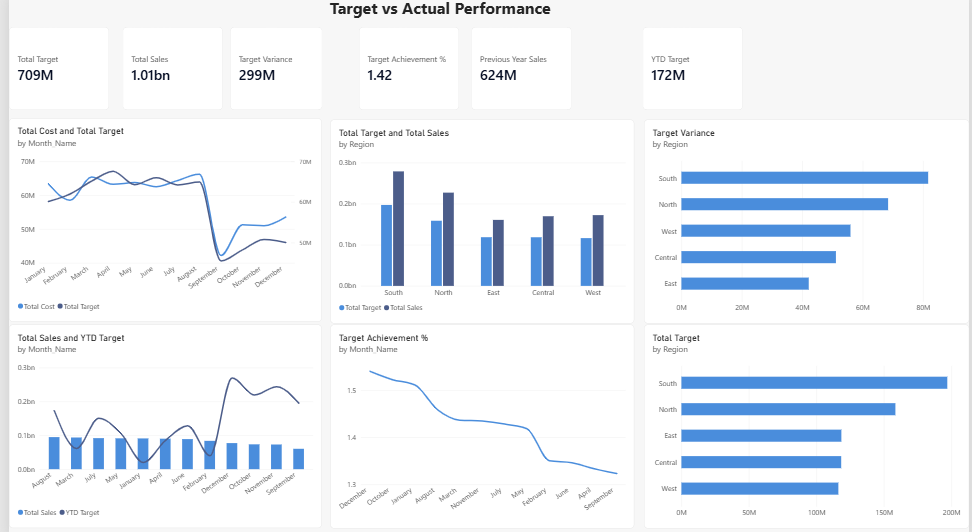

This screenshot's page, from the dashboard's own definition file:
{"tool":"powerbi","page":{"name":"Target vs Actual Performance.","canvas":[1920,1080],"ordinal":2},"visuals":[{"type":"cardVisual","fields":{"Data":["FactSales.Total Target"]},"box":[0,60,200,166],"z":0},{"type":"textbox","box":[458,0,810,74],"z":1000},{"type":"cardVisual","fields":{"Data":["FactSales.Total Sales"]},"box":[228,60,200,166],"z":2000},{"type":"cardVisual","fields":{"Data":["FactTarget.Target Achievement %"]},"box":[700,60,200,166],"z":3000},{"type":"cardVisual","fields":{"Data":["FactTarget.YTD Target"]},"box":[1268,60,200,166],"z":4000},{"type":"cardVisual","fields":{"Data":["FactTarget.Target Variance"]},"box":[442,60,184,166],"z":5000},{"type":"lineChart","fields":{"Category":["DimDate.Month_Name"],"Y":["FactSales.Total Cost"],"Y2":["FactSales.Total Target"]},"box":[0,243.4,625.7,407.5],"z":6000},{"type":"clusteredColumnChart","fields":{"Category":["DimRegion.Region"],"Y":["FactSales.Total Target","FactSales.Total Sales"]},"box":[642,244,608,408],"z":7000},{"type":"clusteredBarChart","fields":{"Category":["DimRegion.Region"],"Y":["FactTarget.Target Variance"]},"box":[1270,244,650,408],"z":8000},{"type":"lineStackedColumnComboChart","fields":{"Category":["DimDate.Month_Name"],"Y":["FactSales.Total Sales"],"Y2":["FactTarget.YTD Target"]},"box":[0,654,625.7,407.5],"z":9000},{"type":"lineChart","fields":{"Category":["DimDate.Month_Name"],"Y":["FactTarget.Target Achievement %"]},"box":[642,654,608,408],"z":10000},{"type":"clusteredBarChart","fields":{"Category":["DimRegion.Region"],"Y":["FactSales.Total Target"]},"box":[1270,654,650,408],"z":11000},{"type":"cardVisual","fields":{"Data":["FactSales.Previous Year Sales"]},"box":[924,60,200,166],"z":11001}]}

Visuals, with their boxes in screenshot pixels (x1, y1, x2, y2), scaled from the page's 1920x1080 canvas onto the 972x532 screenshot:
cardVisual - FactSales.Total Target: [x1=0, y1=30, x2=101, y2=111]
textbox: [x1=232, y1=0, x2=642, y2=36]
cardVisual - FactSales.Total Sales: [x1=115, y1=30, x2=217, y2=111]
cardVisual - FactTarget.Target Achievement %: [x1=354, y1=30, x2=456, y2=111]
cardVisual - FactTarget.YTD Target: [x1=642, y1=30, x2=743, y2=111]
cardVisual - FactTarget.Target Variance: [x1=224, y1=30, x2=317, y2=111]
lineChart - DimDate.Month_Name x FactSales.Total Cost: [x1=0, y1=120, x2=317, y2=321]
clusteredColumnChart - DimRegion.Region x FactSales.Total Target: [x1=325, y1=120, x2=633, y2=321]
clusteredBarChart - DimRegion.Region x FactTarget.Target Variance: [x1=643, y1=120, x2=971, y2=321]
lineStackedColumnComboChart - DimDate.Month_Name x FactSales.Total Sales: [x1=0, y1=322, x2=317, y2=523]
lineChart - DimDate.Month_Name x FactTarget.Target Achievement %: [x1=325, y1=322, x2=633, y2=523]
clusteredBarChart - DimRegion.Region x FactSales.Total Target: [x1=643, y1=322, x2=971, y2=523]
cardVisual - FactSales.Previous Year Sales: [x1=468, y1=30, x2=569, y2=111]
